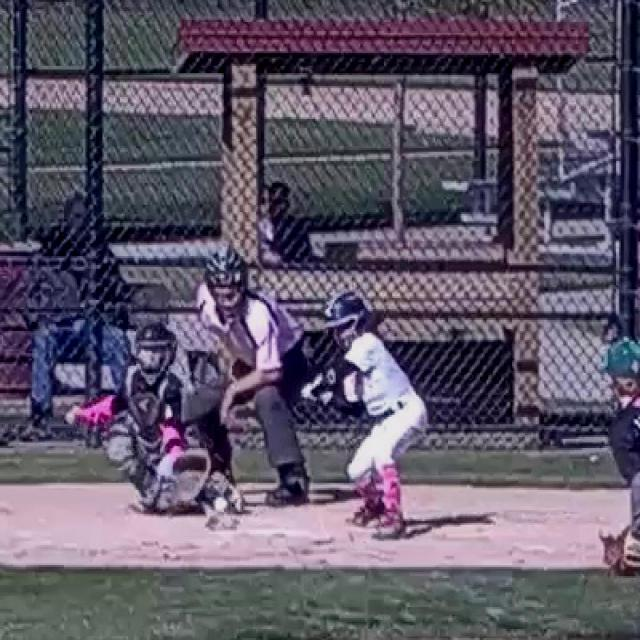baseball: (215, 498, 225, 511)
